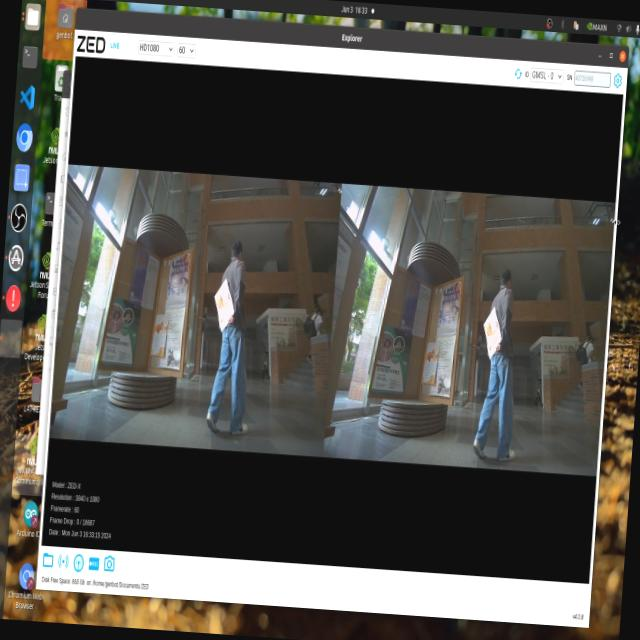red: (481, 314, 504, 364), (213, 286, 234, 328)
